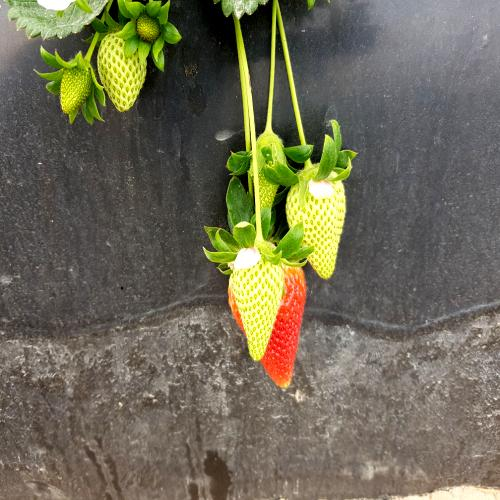unripe: (282, 153, 353, 284), (242, 246, 283, 361)
